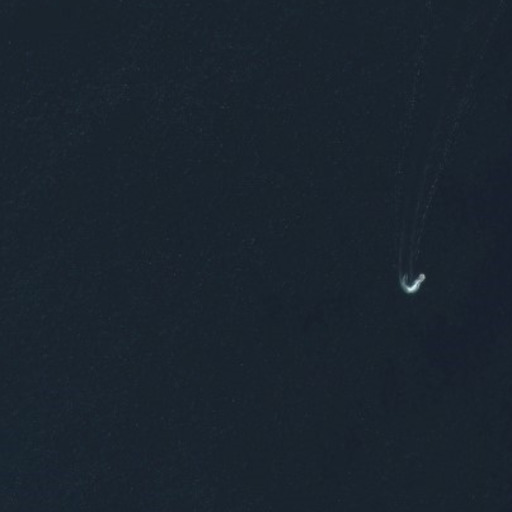ship: (411, 271, 428, 293)
